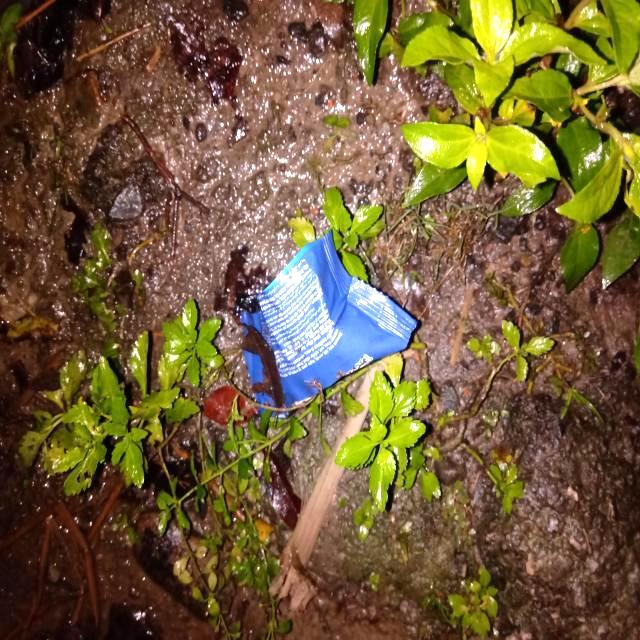packet: (242, 233, 417, 413)
